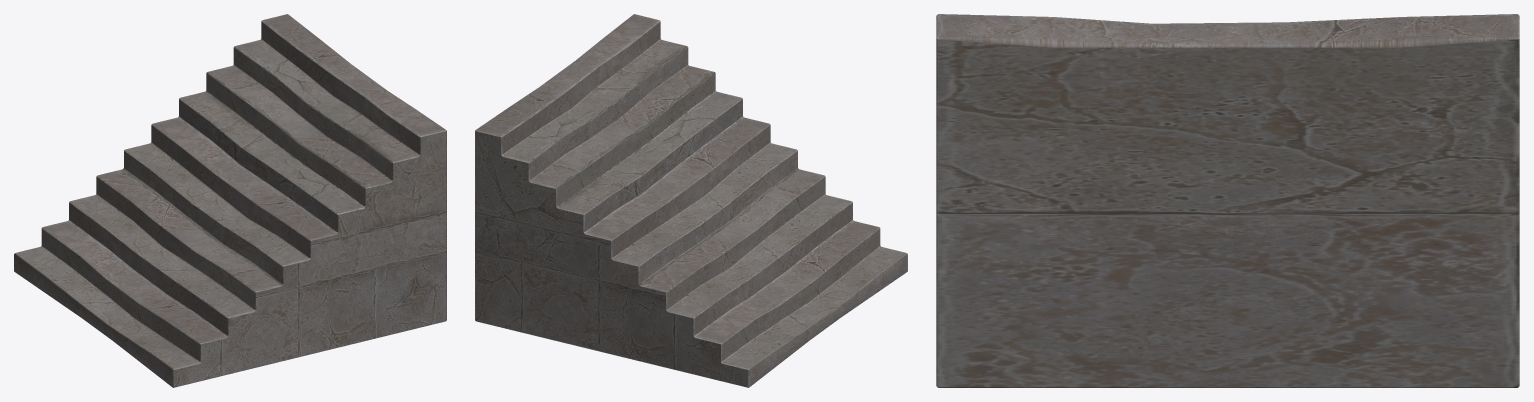
File: SM_Stair_02.fbx
The picture shows the model from 3 angles, left to right: view 1: azimuth 30°, elevation 25°; view 2: azimuth 150°, elevation 25°; view 3: azimuth 270°, elevation 25°; orthographic projection. The views are drawn at different scales.
Visible parts, largest first — view 1: SM_Stair_02_LOD0; view 2: SM_Stair_02_LOD0; view 3: SM_Stair_02_LOD0.
Part boxes in pixels (x1=…): SM_Stair_02_LOD0: x1=14, y1=14, x2=446, y2=387; SM_Stair_02_LOD0: x1=475, y1=14, x2=907, y2=387; SM_Stair_02_LOD0: x1=936, y1=14, x2=1519, y2=387.
Bounding box in the file's own units: 300 × 301 × 200.
